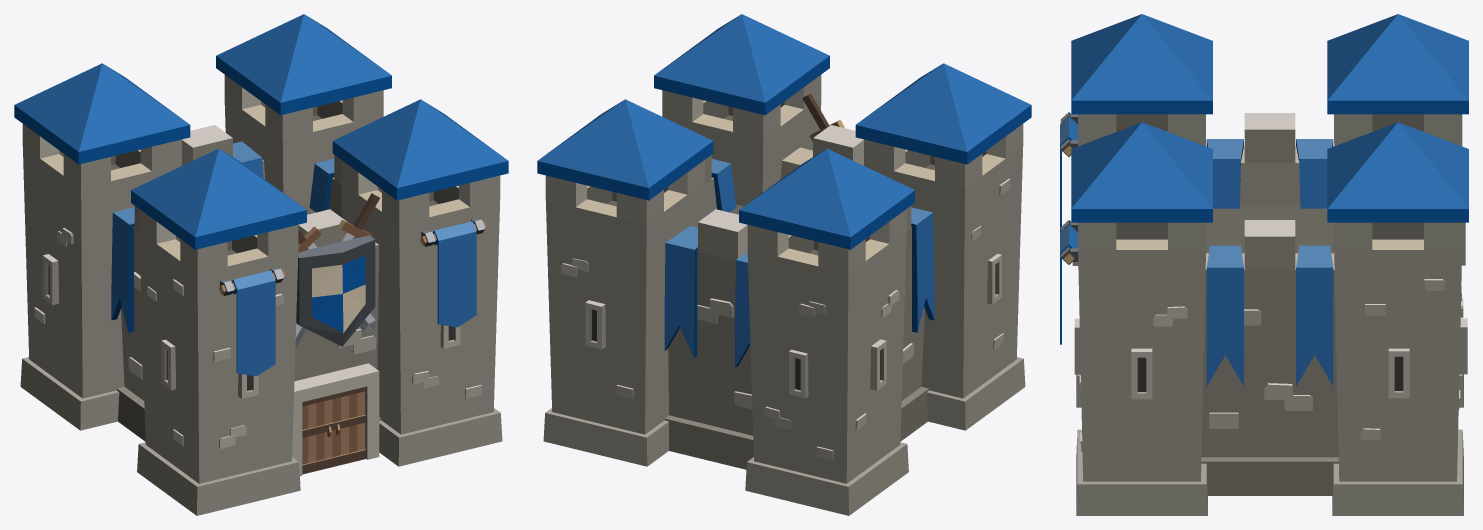
Rendered from TB_Barracks_Lvl4A.FBX.
3 views of the same model, side by side, from view 1: azimuth 30°, elevation 25°; view 2: azimuth 150°, elevation 25°; view 3: azimuth 270°, elevation 25° (orthographic). The views are drawn at different scales.
Parts seen in each view (by area): view 1: TB_Barracks_Lvl4A, TB_Barracks_Lvl4A_DoorB, TB_Barracks_Lvl4A_DoorA; view 2: TB_Barracks_Lvl4A; view 3: TB_Barracks_Lvl4A.
Part boxes in pixels (x1,y1,x2,y2): TB_Barracks_Lvl4A: (14, 14, 508, 515); TB_Barracks_Lvl4A_DoorB: (332, 386, 365, 466); TB_Barracks_Lvl4A_DoorA: (302, 394, 333, 474); TB_Barracks_Lvl4A: (537, 14, 1031, 515); TB_Barracks_Lvl4A: (1060, 14, 1468, 515).
Bounding box in the file's own units: 8.7 × 8.83 × 8.94.
